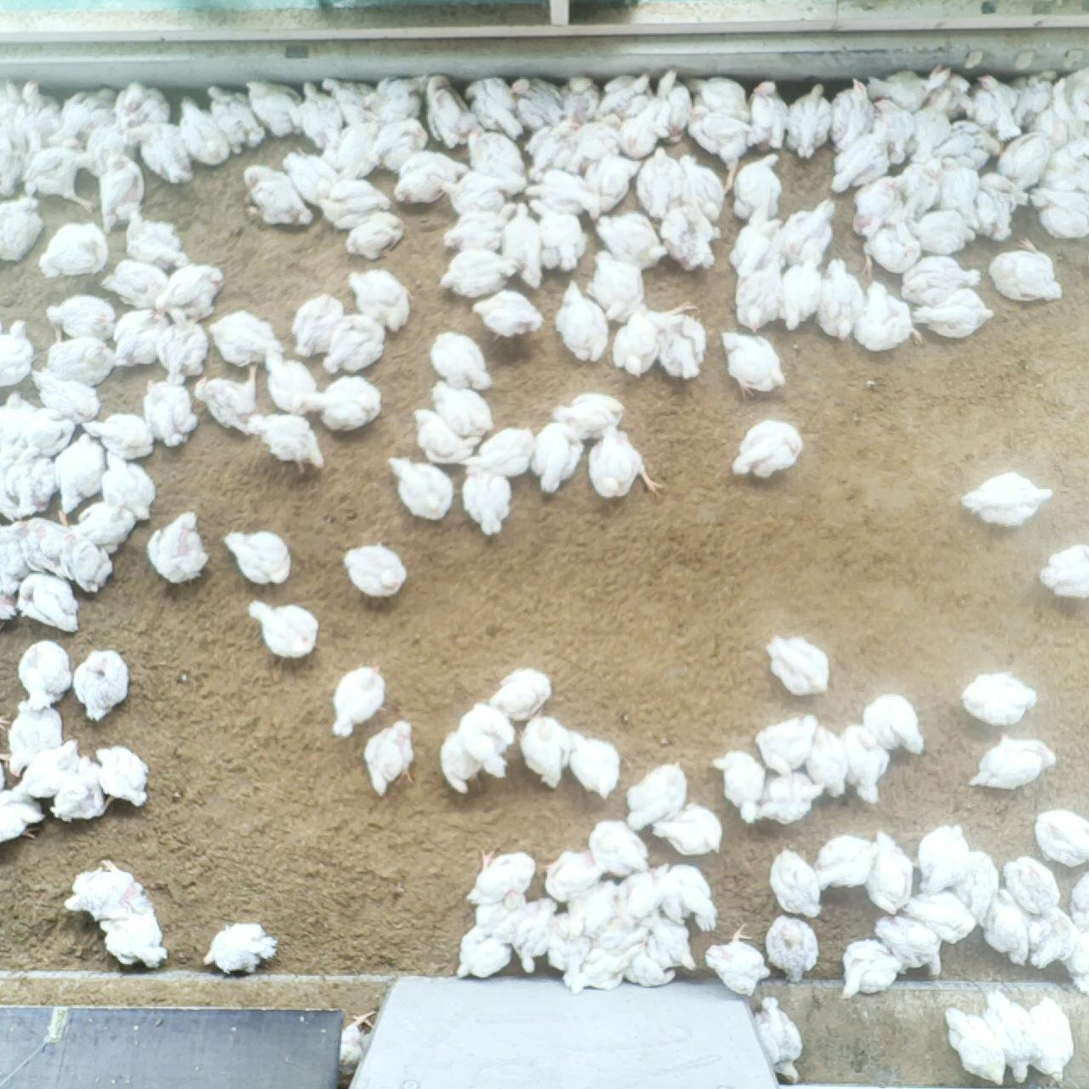chicken: (682, 104, 769, 194), (613, 292, 698, 380), (947, 460, 1055, 528), (16, 141, 106, 220), (90, 885, 172, 971), (41, 423, 115, 514), (585, 427, 666, 509), (937, 999, 1012, 1086), (979, 983, 1041, 1086), (829, 717, 897, 810), (855, 275, 927, 362), (316, 660, 393, 741), (746, 705, 824, 783), (764, 845, 834, 931), (218, 527, 304, 597), (0, 688, 70, 774), (963, 733, 1057, 797), (983, 236, 1064, 310), (746, 761, 829, 833), (730, 410, 808, 485), (873, 910, 953, 983), (142, 503, 212, 586), (459, 692, 520, 786), (296, 372, 390, 433), (717, 326, 794, 400), (243, 410, 332, 474), (128, 375, 201, 453), (756, 628, 842, 694), (697, 925, 772, 1000), (342, 263, 417, 338), (952, 664, 1042, 726), (467, 839, 540, 915), (657, 203, 730, 278), (861, 683, 932, 760), (580, 247, 649, 326), (35, 212, 114, 281), (86, 737, 154, 817), (733, 244, 789, 340), (67, 647, 134, 727), (583, 811, 657, 883), (384, 452, 456, 526), (423, 328, 495, 402), (908, 287, 998, 346), (751, 993, 806, 1089), (995, 847, 1067, 920), (9, 735, 84, 805), (625, 754, 694, 830), (1024, 990, 1078, 1087), (903, 882, 983, 947), (860, 822, 914, 918), (193, 361, 266, 432), (359, 714, 418, 801), (910, 818, 974, 898), (519, 713, 577, 801), (242, 594, 323, 657), (827, 117, 890, 198), (504, 889, 564, 974), (95, 444, 157, 526), (63, 854, 147, 914), (464, 121, 529, 198), (499, 195, 549, 295), (430, 245, 526, 297), (526, 198, 592, 273), (556, 277, 611, 366), (832, 929, 899, 1002), (648, 802, 730, 861), (708, 743, 766, 826), (763, 912, 825, 989), (284, 285, 345, 363), (263, 335, 323, 414), (590, 213, 673, 270), (199, 914, 280, 972), (426, 373, 496, 440), (559, 728, 624, 799), (560, 943, 650, 994), (339, 541, 414, 602), (459, 459, 516, 539), (152, 298, 209, 378), (459, 71, 525, 140), (561, 872, 626, 942), (391, 148, 469, 206), (437, 199, 519, 254), (151, 259, 227, 318), (981, 886, 1038, 964), (170, 88, 227, 166), (204, 306, 286, 360), (21, 366, 103, 420), (130, 118, 196, 185), (861, 58, 946, 110), (409, 406, 483, 465), (969, 172, 1028, 246), (205, 81, 264, 155), (240, 165, 308, 229), (783, 80, 836, 162), (641, 910, 702, 981), (7, 73, 55, 163), (316, 175, 393, 231), (45, 292, 124, 346), (1029, 802, 1089, 873), (554, 388, 630, 444), (424, 73, 479, 150), (0, 447, 58, 520), (900, 251, 983, 302), (810, 828, 880, 888), (48, 83, 112, 148), (469, 283, 543, 339), (815, 254, 861, 344), (75, 411, 161, 459), (111, 301, 169, 372), (433, 719, 485, 798), (534, 418, 586, 497), (91, 148, 145, 224), (238, 74, 301, 139), (777, 247, 823, 336), (730, 152, 788, 222), (14, 633, 72, 703), (854, 220, 925, 277), (119, 202, 185, 263), (655, 314, 715, 381), (15, 573, 82, 633), (1016, 903, 1075, 971), (666, 862, 723, 932), (486, 666, 564, 717), (802, 721, 853, 799), (785, 200, 841, 271), (461, 423, 537, 475), (727, 217, 789, 280), (850, 165, 910, 230), (684, 68, 756, 122), (635, 141, 683, 222), (932, 117, 1006, 169), (564, 885, 625, 948), (450, 918, 509, 983), (589, 145, 648, 210), (644, 64, 693, 142), (621, 860, 676, 929), (993, 131, 1057, 190), (953, 842, 1001, 920), (321, 307, 385, 365), (674, 152, 730, 218), (1034, 538, 1089, 604), (0, 192, 48, 266), (100, 74, 168, 126), (71, 496, 136, 550), (42, 337, 121, 381), (319, 121, 381, 177), (741, 77, 786, 153), (537, 850, 604, 901), (521, 160, 586, 212), (339, 207, 405, 258), (916, 85, 958, 165), (362, 72, 429, 122), (824, 74, 870, 146), (64, 533, 114, 599), (292, 77, 339, 146), (103, 255, 165, 307), (19, 516, 74, 574), (1055, 904, 1089, 996), (1029, 186, 1089, 237), (594, 68, 657, 116), (282, 148, 335, 205), (912, 206, 974, 254), (18, 408, 74, 461), (938, 167, 985, 230), (438, 166, 513, 205), (1042, 134, 1089, 196), (0, 311, 35, 394), (324, 70, 374, 127), (0, 785, 44, 849), (372, 115, 429, 163), (81, 112, 128, 170), (870, 93, 913, 156), (529, 118, 579, 172), (558, 72, 603, 130), (978, 71, 1016, 138), (1018, 67, 1063, 123), (1055, 60, 1089, 131), (573, 113, 624, 160), (617, 107, 662, 158), (518, 81, 564, 130), (897, 165, 941, 210), (930, 70, 976, 111), (0, 396, 28, 463), (0, 517, 27, 576), (1059, 865, 1089, 911), (0, 572, 18, 622)
